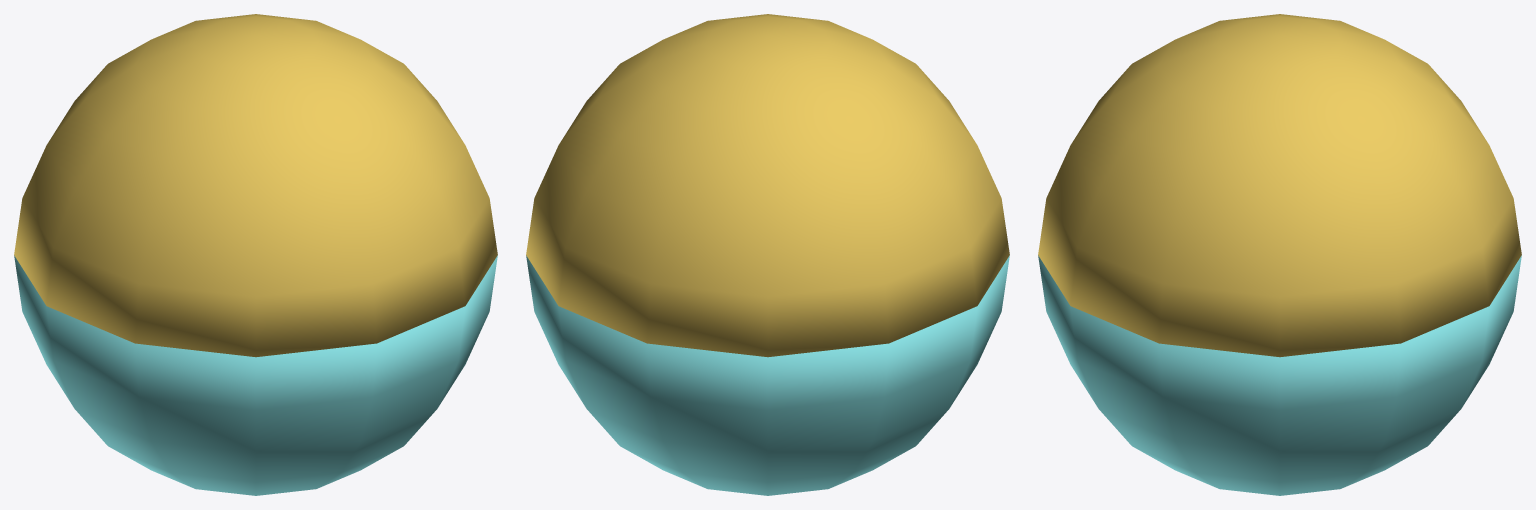
The model's file is toy capsule.fbx.
3 renders of one model, left to right at view 1: azimuth 30°, elevation 25°; view 2: azimuth 150°, elevation 25°; view 3: azimuth 270°, elevation 25°, orthographic.
Visible parts, largest first — view 1: capsuleToy, capsuleToyCase W; view 2: capsuleToy, capsuleToyCase W; view 3: capsuleToy, capsuleToyCase W.
Boxes of the visible parts, left/top/right/bottom form: capsuleToy: left=14, top=14, right=497, bottom=357; capsuleToyCase W: left=14, top=255, right=497, bottom=495; capsuleToy: left=526, top=14, right=1009, bottom=357; capsuleToyCase W: left=526, top=255, right=1009, bottom=495; capsuleToy: left=1038, top=14, right=1521, bottom=357; capsuleToyCase W: left=1038, top=255, right=1521, bottom=495.
Bounding box in the file's own units: 16 × 16 × 16.
